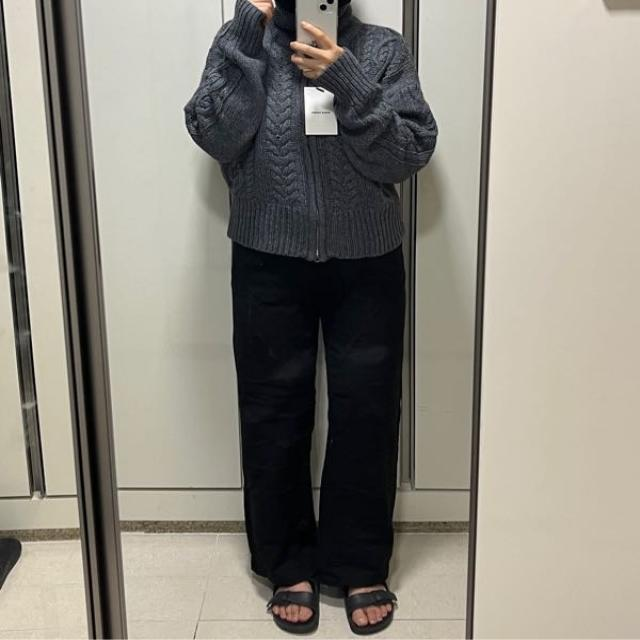cardigan: (184, 0, 435, 261)
cottonpants: (233, 232, 408, 595)
